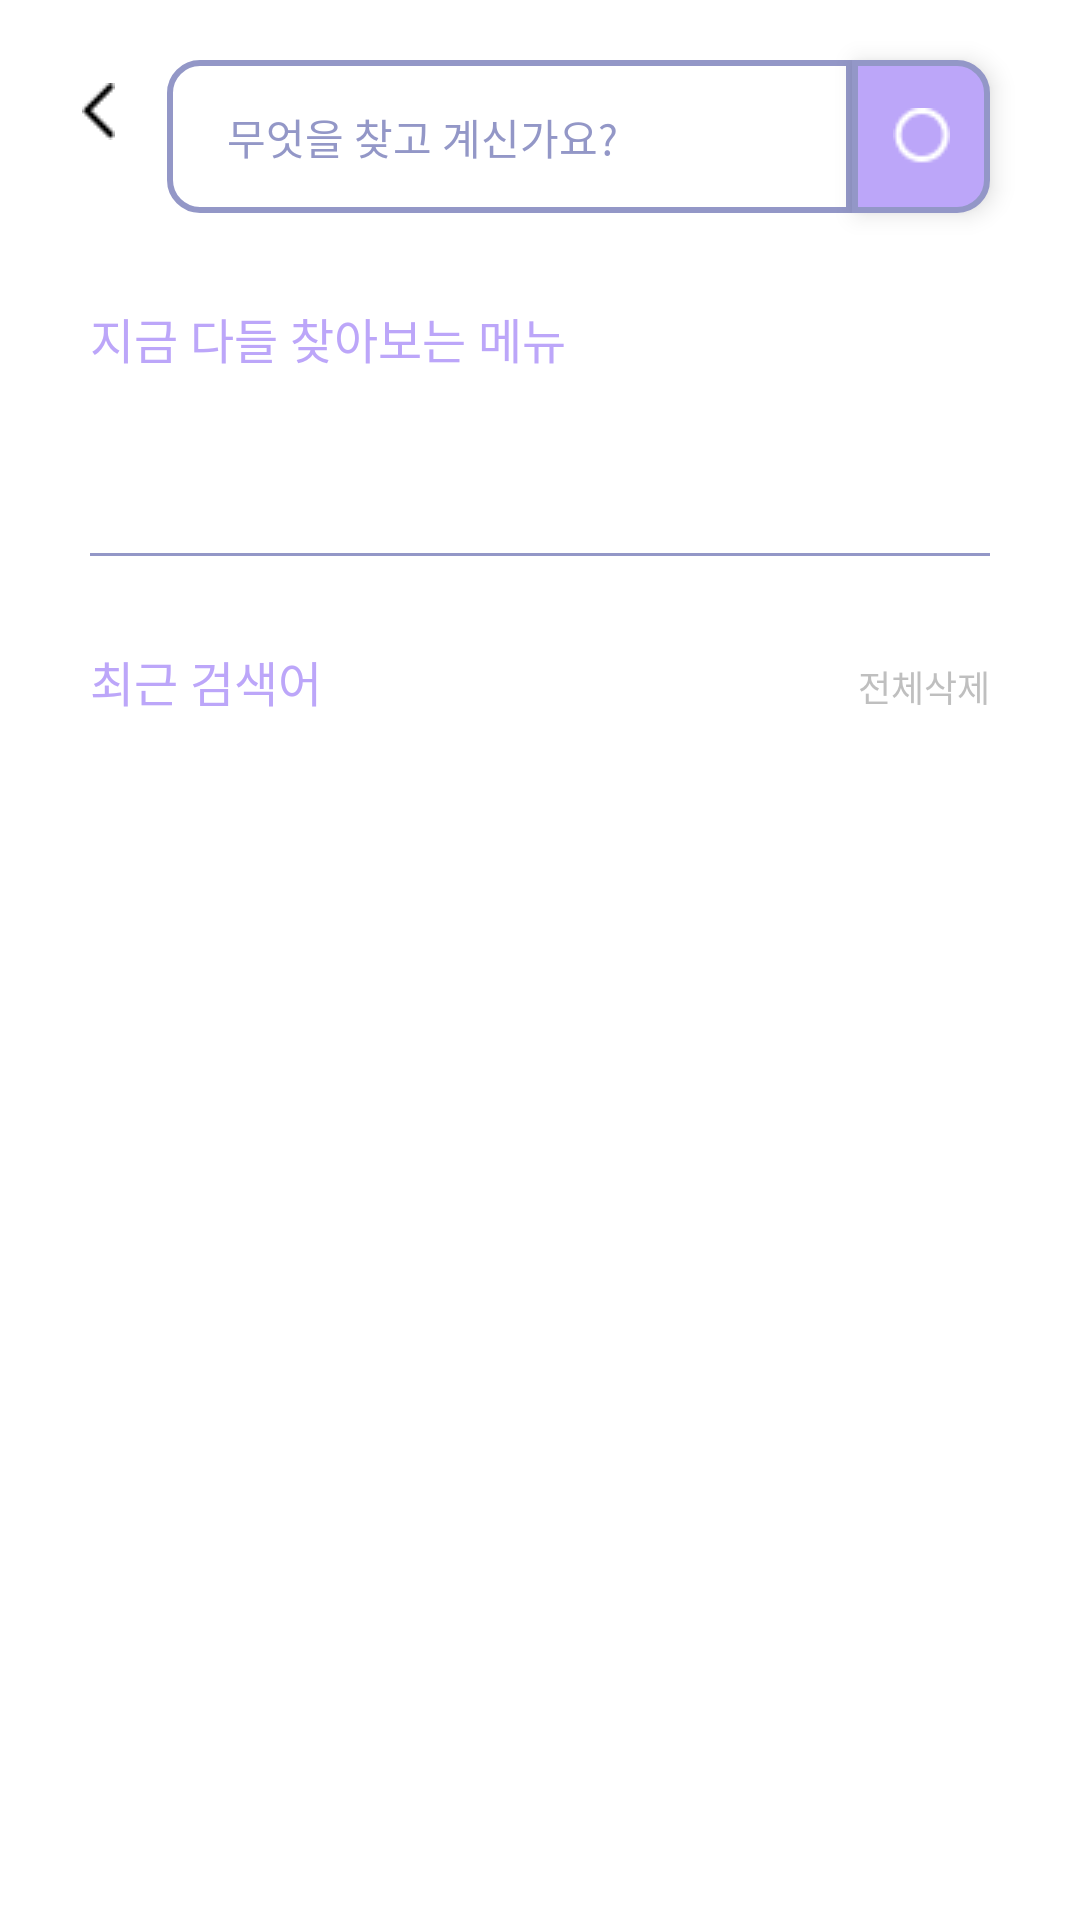

Named icons in this screenshot (1080 x 1920) and their centers, [x,y]:
back: [98,111]
